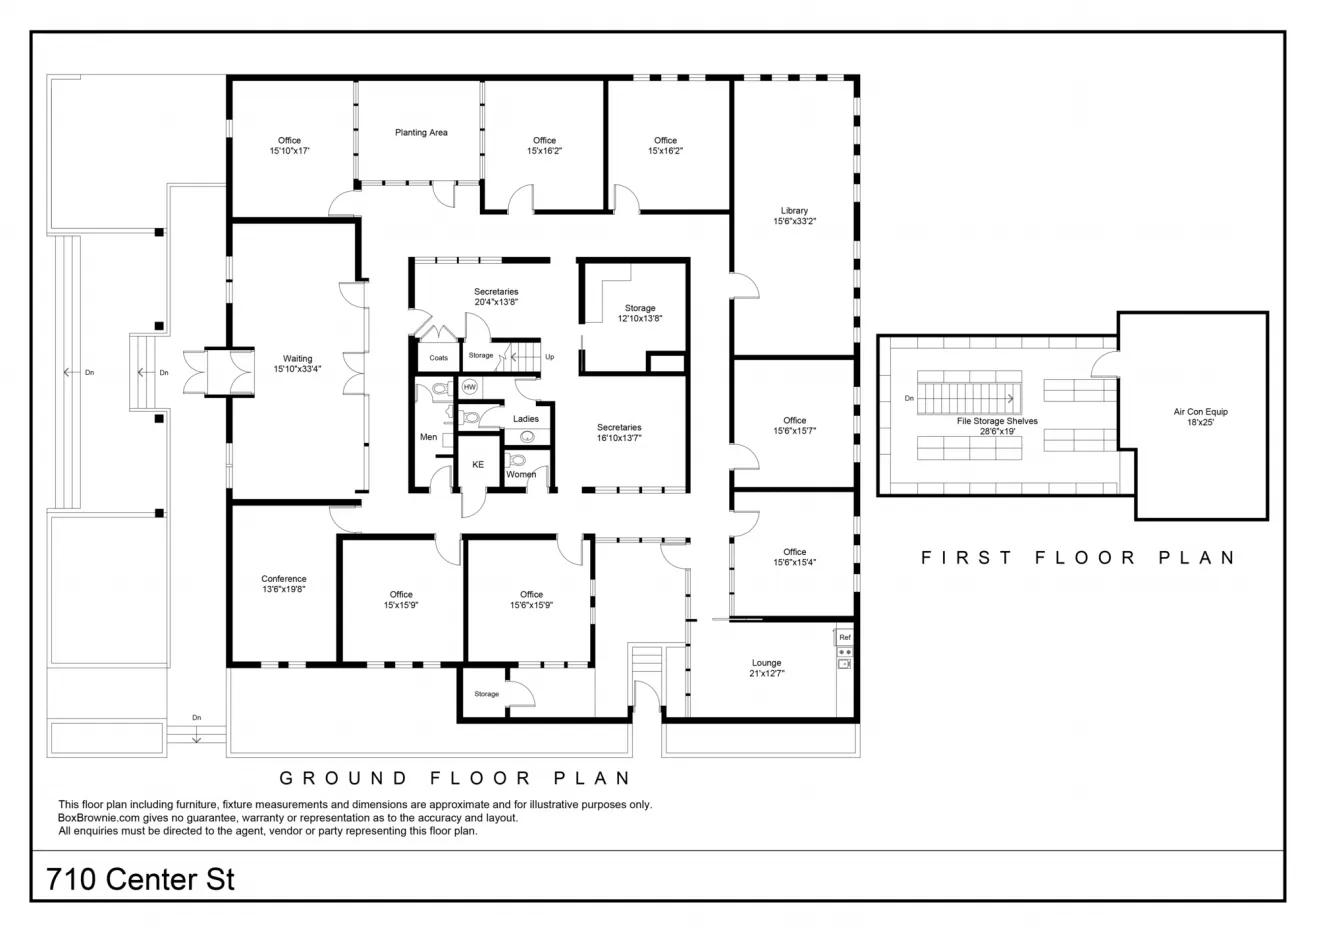room: (229, 220, 360, 502), (731, 79, 858, 358), (228, 79, 357, 220), (234, 502, 341, 666), (605, 77, 731, 212), (731, 356, 858, 489), (482, 77, 606, 213), (411, 373, 552, 492), (731, 489, 857, 620), (466, 537, 592, 666), (410, 257, 549, 373), (341, 537, 465, 665), (356, 78, 483, 183), (582, 259, 688, 374)
